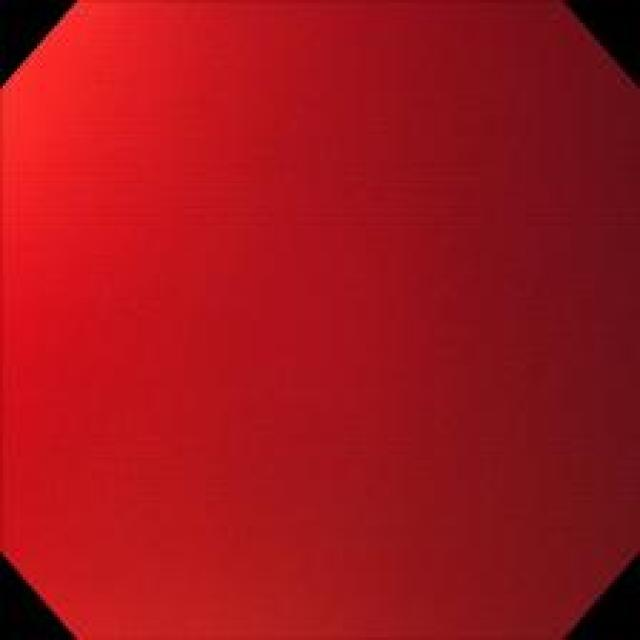color misalignment: (4, 8, 634, 631)
